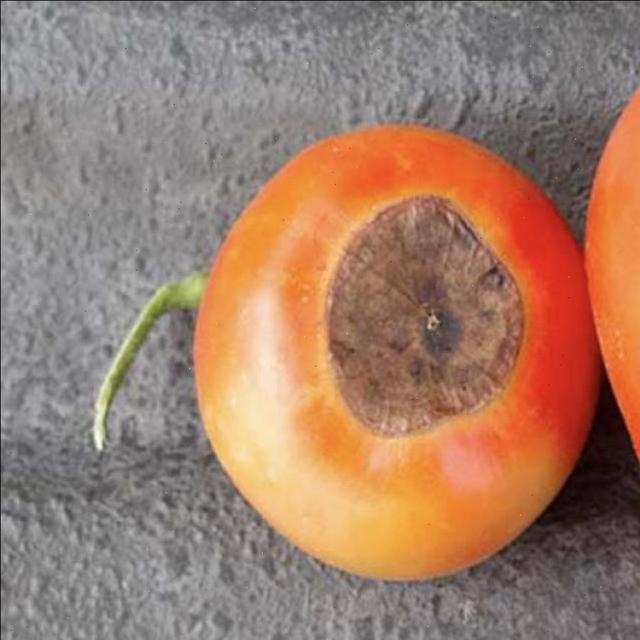Blossom End Rot Fruit: (216, 127, 354, 294)
